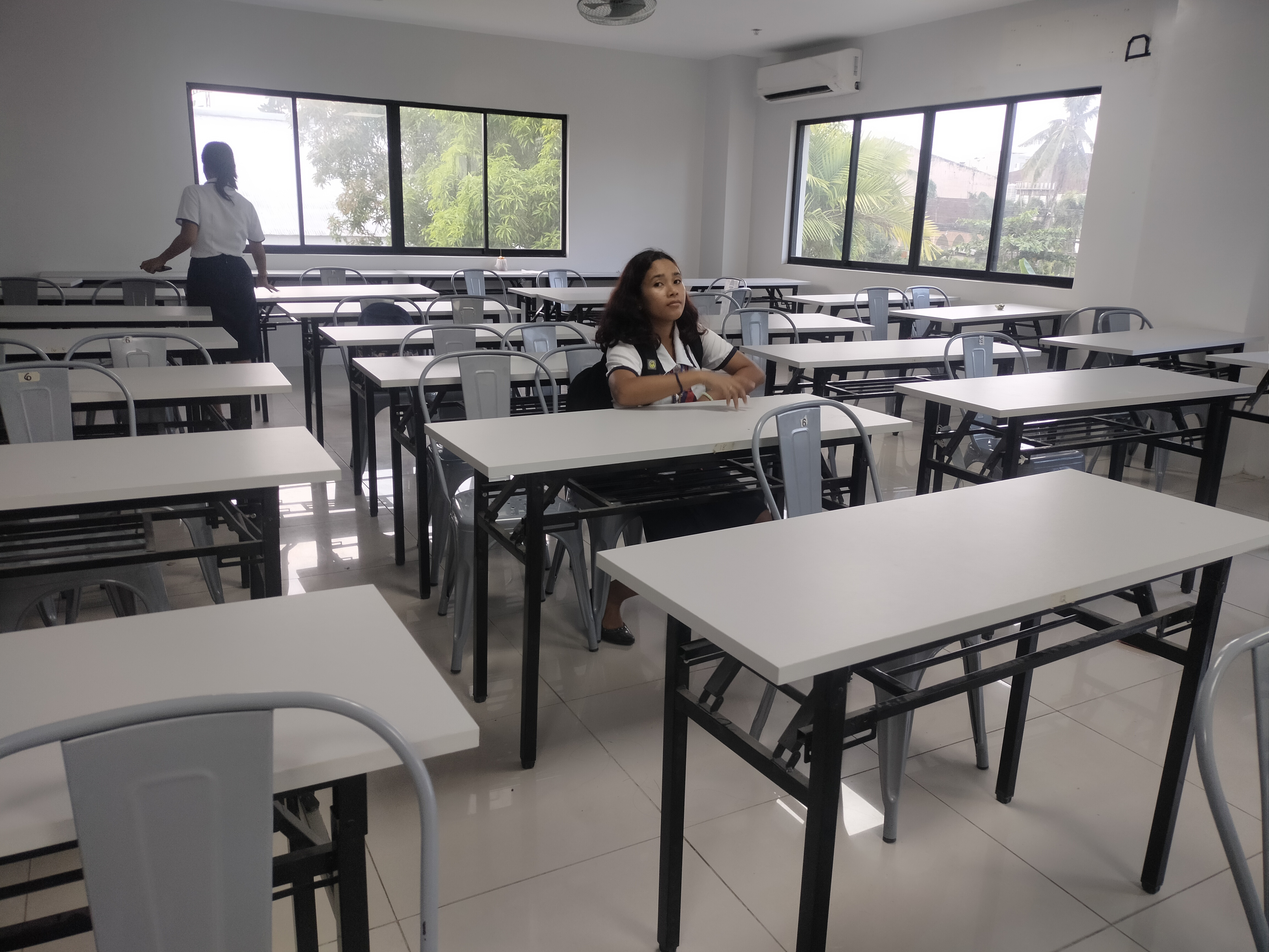with-student: (422, 241, 911, 519)
